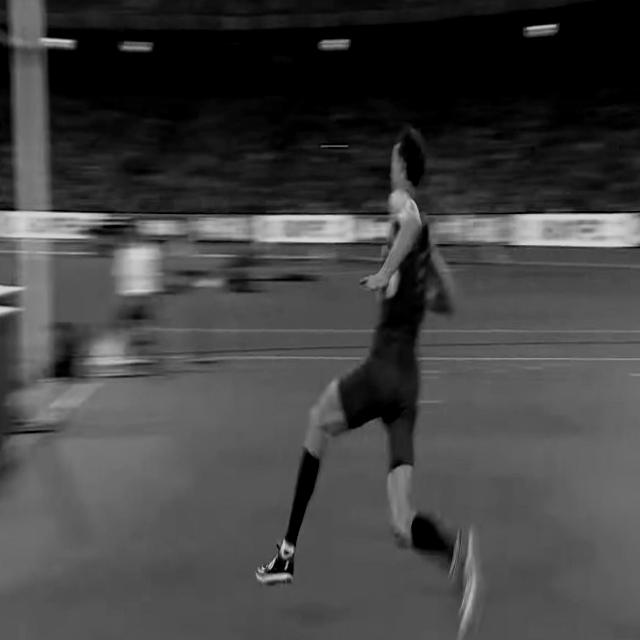run: (255, 118, 480, 640)
